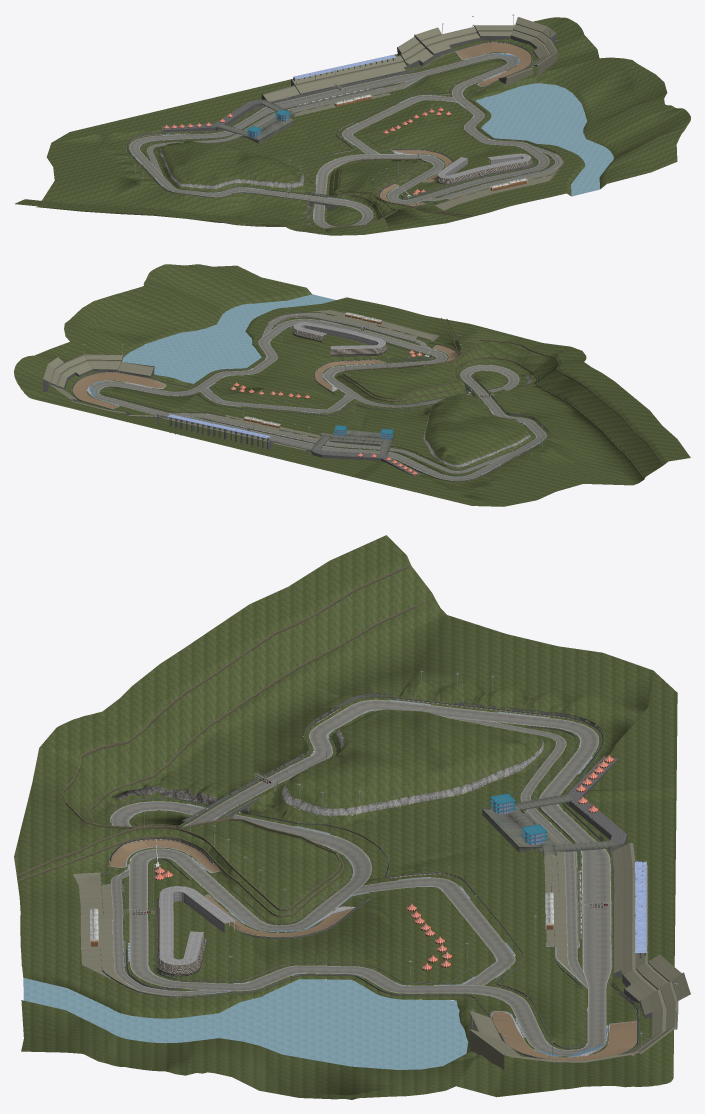
File: harbor.glb
3 views of the same model, one above another, from view 1: azimuth 30°, elevation 25°; view 2: azimuth 150°, elevation 25°; view 3: azimuth 270°, elevation 25° (orthographic). The views are drawn at different scales.
Visible parts, largest first — view 1: grass1, road, lake, step2, wall, sand2, sand1, stonewal, transparentwall, bluebump, roof1, rock2 (+7 smaller); view 2: grass1, road, lake, wall, step2, stonewal, sand2, sand1, transparentwall, roof1, bluebump, tirebump (+6 smaller); view 3: grass1, road, lake, step2, wall, stonewal, sand2, sand1, roof1, rock2, bluebump, tirebump (+7 smaller).
Part boxes in pixels (bbox=[...]): grass1: bbox=[15, 17, 690, 235]; road: bbox=[129, 53, 560, 228]; lake: bbox=[475, 83, 613, 196]; step2: bbox=[263, 17, 557, 101]; wall: bbox=[126, 41, 563, 210]; sand2: bbox=[241, 79, 563, 210]; sand1: bbox=[379, 42, 532, 206]; stonewal: bbox=[110, 158, 473, 229]; transparentwall: bbox=[261, 18, 557, 101]; bluebump: bbox=[132, 51, 555, 226]; roof1: bbox=[438, 153, 531, 178]; rock2: bbox=[159, 148, 304, 189]; grass1: bbox=[14, 264, 690, 506]; road: bbox=[88, 314, 546, 480]; lake: bbox=[122, 294, 335, 383]; wall: bbox=[71, 311, 549, 481]; step2: bbox=[43, 354, 306, 450]; stonewal: bbox=[340, 317, 662, 478]; sand2: bbox=[179, 310, 439, 447]; sand1: bbox=[72, 345, 456, 408]; transparentwall: bbox=[43, 354, 310, 454]; roof1: bbox=[293, 322, 385, 349]; bluebump: bbox=[86, 320, 540, 476]; tirebump: bbox=[71, 316, 544, 480]; grass1: bbox=[14, 535, 677, 1099]; road: bbox=[110, 699, 611, 1055]; lake: bbox=[23, 978, 468, 1069]; step2: bbox=[469, 843, 690, 1069]; wall: bbox=[100, 696, 638, 1062]; stonewal: bbox=[17, 564, 434, 917]; sand2: bbox=[73, 810, 580, 997]; sand1: bbox=[108, 840, 637, 1060]; roof1: bbox=[159, 886, 235, 965]; rock2: bbox=[281, 728, 544, 816]; bluebump: bbox=[102, 699, 636, 1057]; tirebump: bbox=[110, 697, 638, 1060].
Bounding box in the file's own units: 936 × 49.77 × 495.
Materials: 31 (30 with a texture image).
